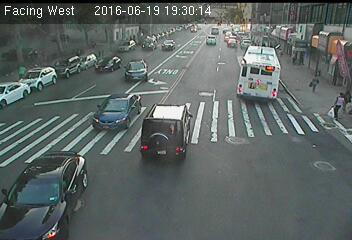neg: (324, 34, 351, 74), (258, 55, 279, 82), (251, 77, 267, 98), (165, 118, 179, 137)
pos: (328, 89, 351, 122), (12, 59, 31, 84), (308, 68, 326, 93)
